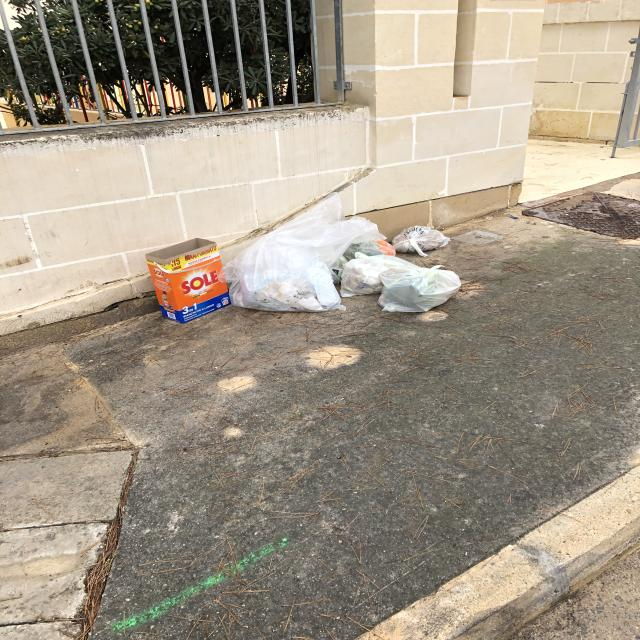Organic Waste -White Bag-: (235, 192, 397, 326), (379, 263, 465, 325), (343, 252, 417, 300), (388, 225, 455, 256), (351, 240, 399, 257)
Other: (143, 237, 233, 327)
